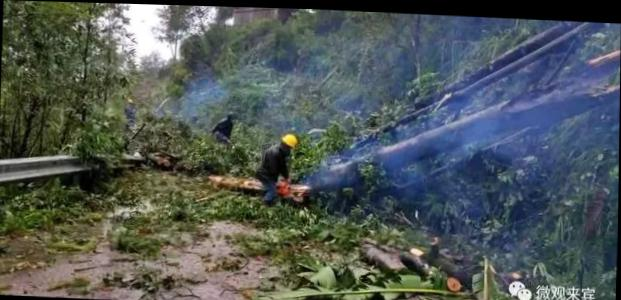Downstairs: (287, 7, 621, 216), (125, 111, 315, 206)
